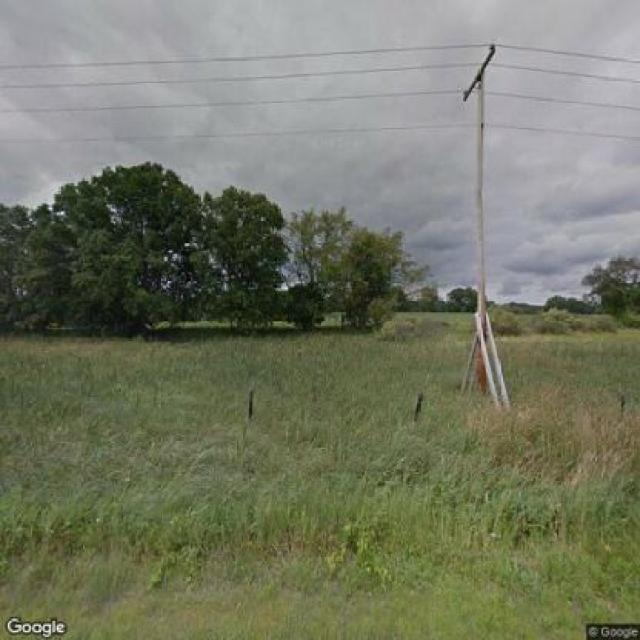pole: (447, 43, 511, 411)
